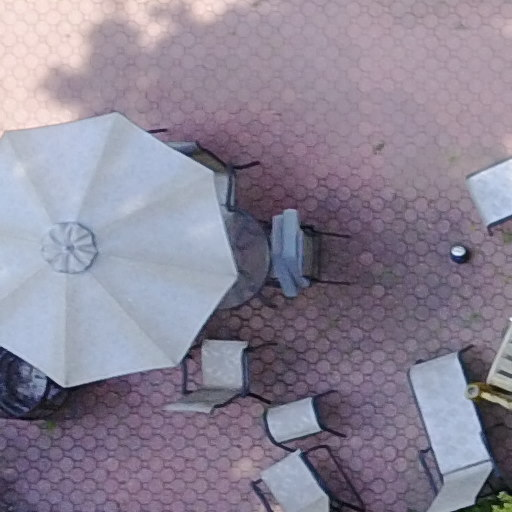umbrella: (1, 98, 264, 397)
